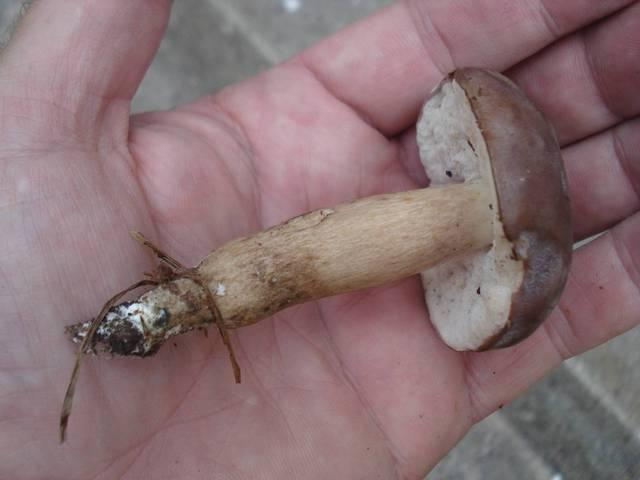poisonous_mushroom: (61, 64, 574, 403)
